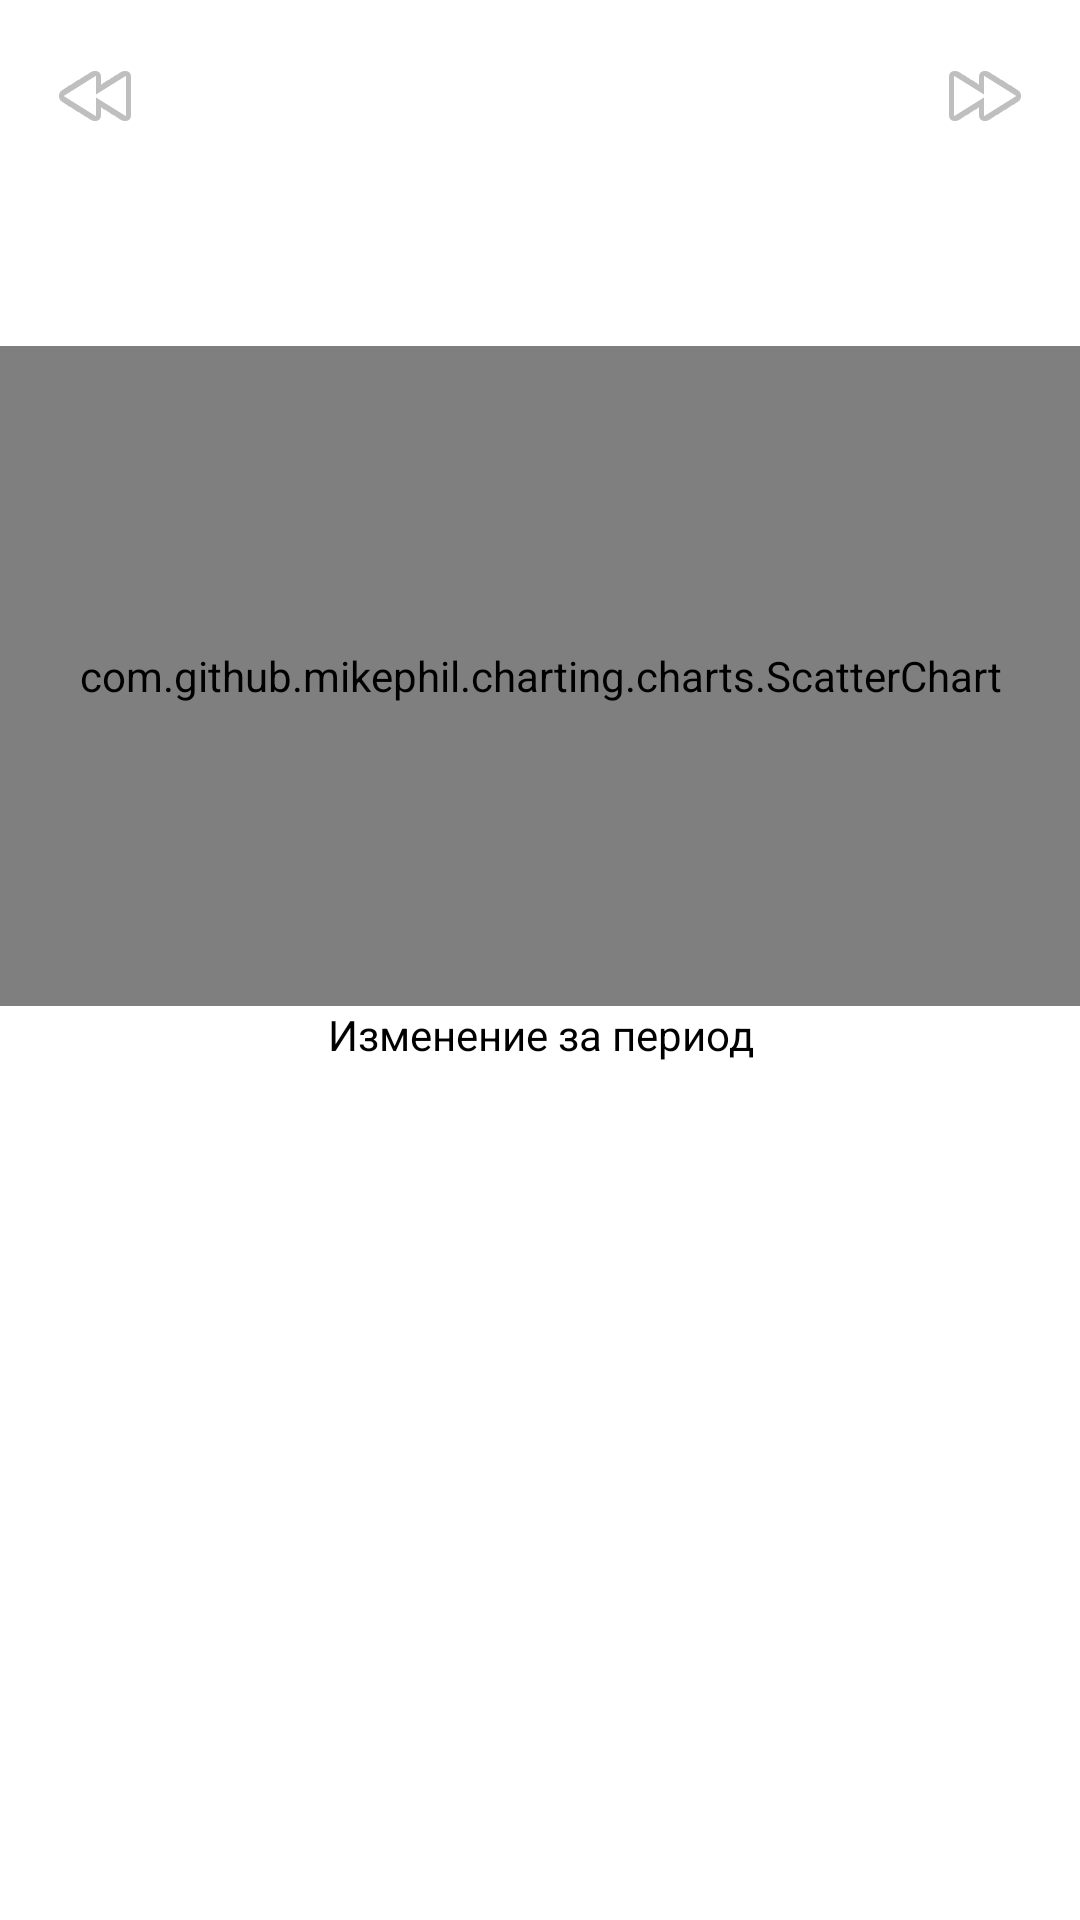

Where icons sit on this 1080 x 1920 app screen, as (x1, y1, x2, y2):
rew: (59, 71, 131, 121)
